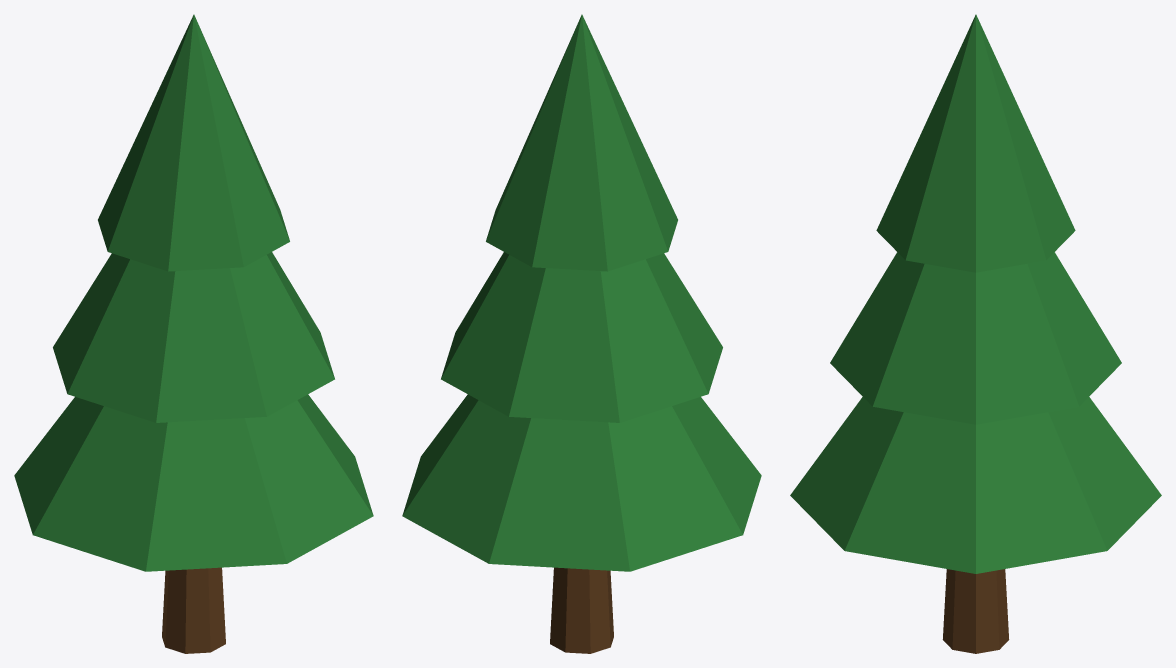
File: Tree.obj
3 renders of one model, left to right at view 1: azimuth 30°, elevation 25°; view 2: azimuth 150°, elevation 25°; view 3: azimuth 270°, elevation 25°, orthographic.
Parts seen in each view (by area): view 1: Leaves, Trunk; view 2: Leaves, Trunk; view 3: Leaves, Trunk.
Boxes of the visible parts, x1,y1,x2,y2 form: Leaves: [14, 14, 373, 571]; Trunk: [162, 567, 225, 653]; Leaves: [402, 14, 761, 571]; Trunk: [550, 567, 613, 653]; Leaves: [790, 14, 1161, 573]; Trunk: [942, 569, 1009, 653].
Size of the model in its own units: 2.8 by 5.2 by 2.8.
